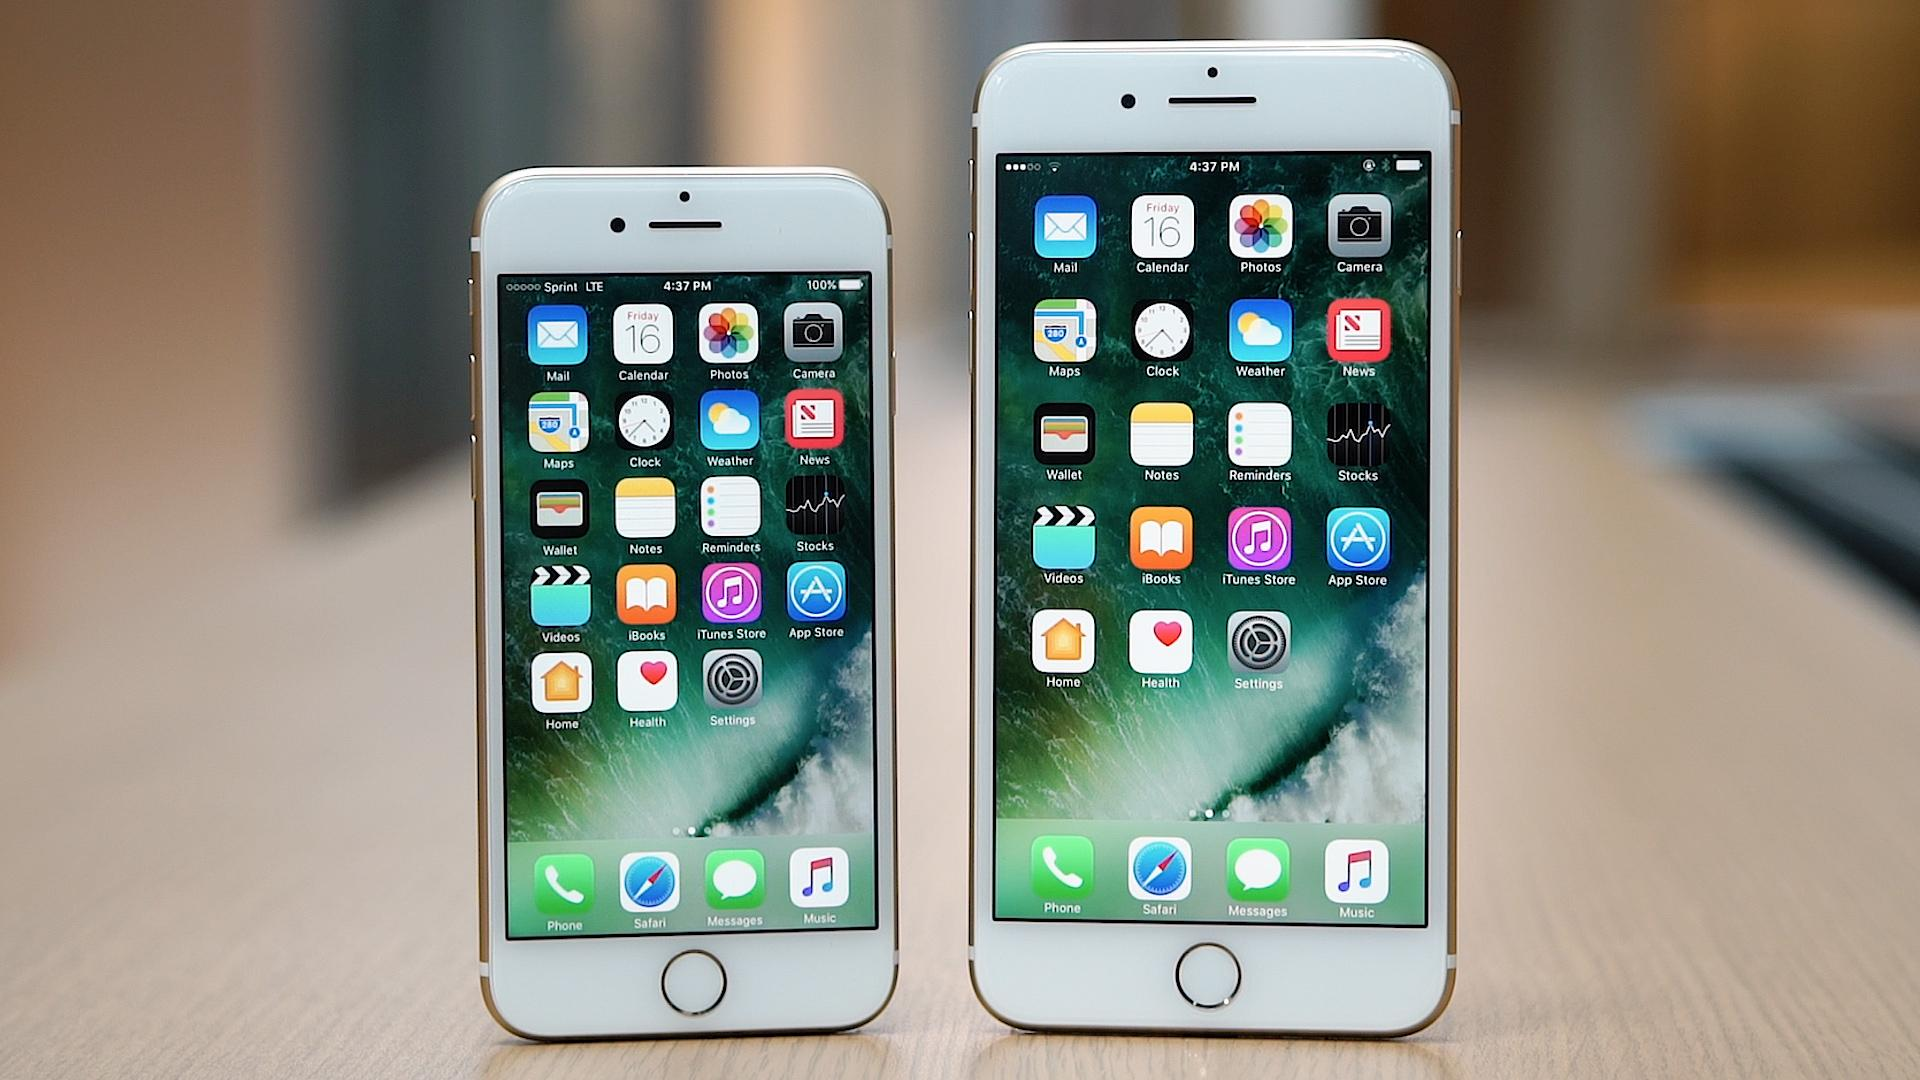smartphone: (964, 40, 1462, 1040), (467, 165, 901, 1047)
